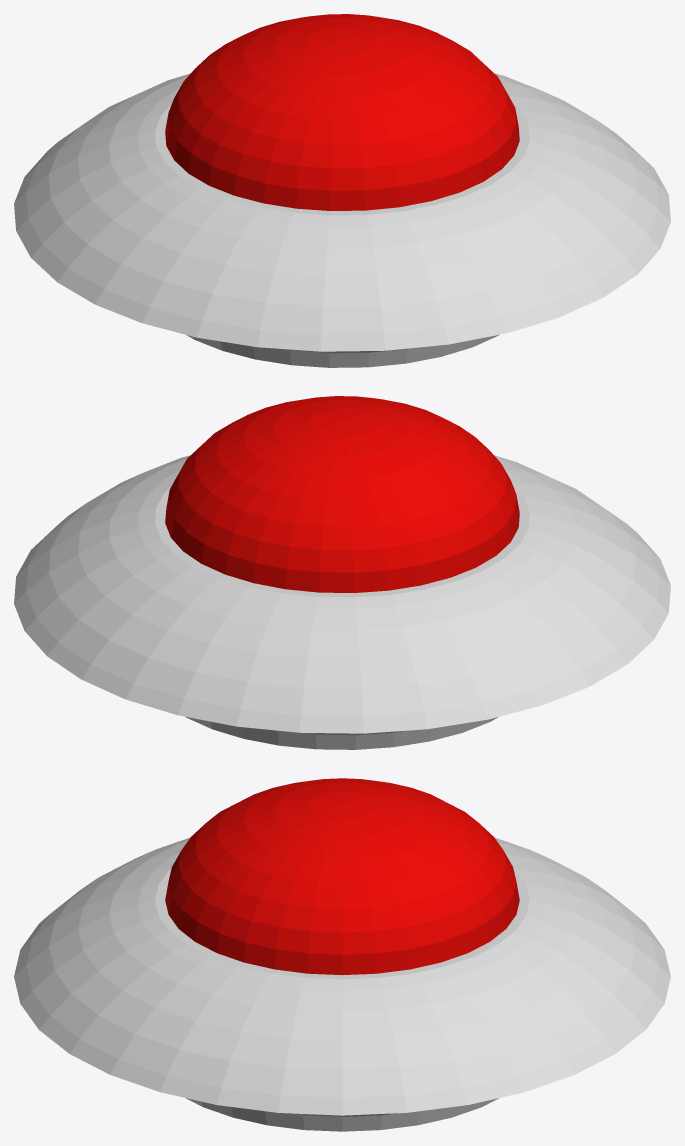
The model's file is ufo.glb.
The picture shows the model from 3 angles, top to bottom: view 1: azimuth 30°, elevation 25°; view 2: azimuth 150°, elevation 25°; view 3: azimuth 270°, elevation 25°; orthographic projection.
Parts seen in each view (by area): view 1: Circle; view 2: Circle; view 3: Circle.
Boxes of the visible parts, x1,y1,x2,y2 form: Circle: [14, 14, 670, 367]; Circle: [14, 396, 670, 749]; Circle: [14, 778, 670, 1131].
Bounding box in the file's own units: 3.34 × 1.37 × 3.34.
